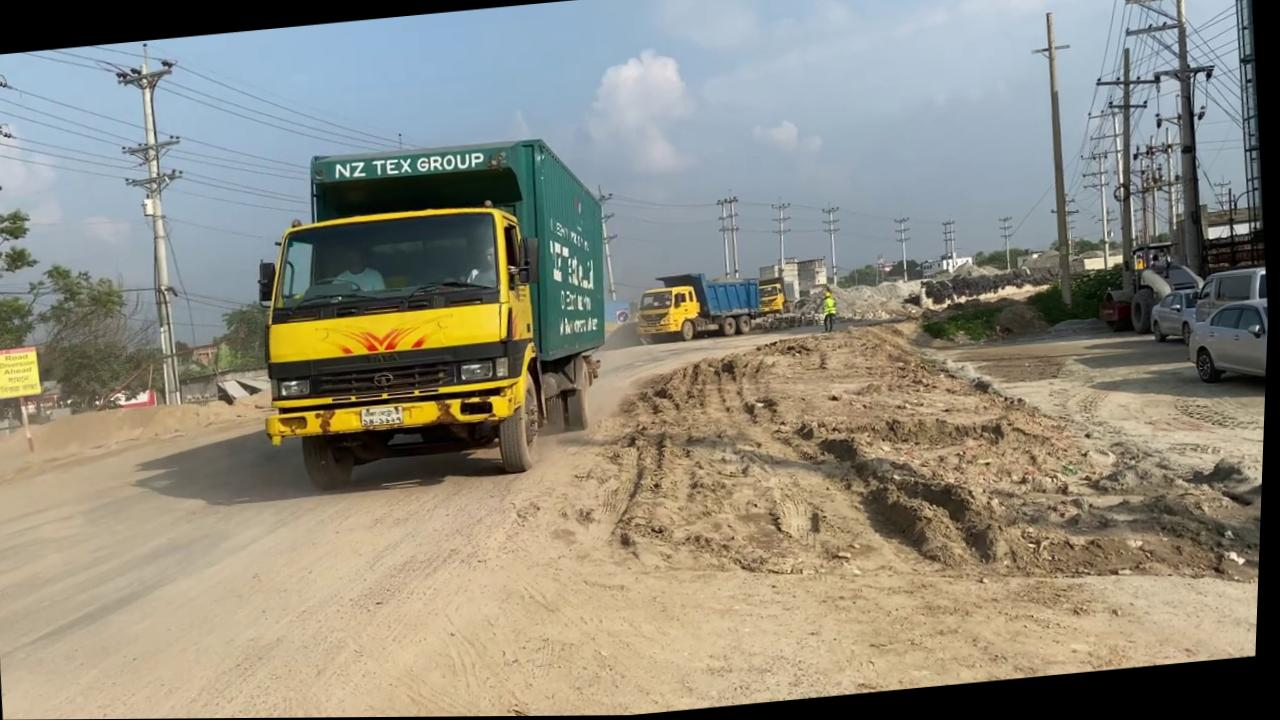Muddy road: (632, 313, 1069, 607)
Pole: (101, 39, 206, 409), (1020, 11, 1093, 312)
Tree: (241, 128, 630, 498), (1094, 239, 1211, 340), (633, 267, 767, 347), (1097, 267, 1178, 338), (757, 282, 790, 319)
